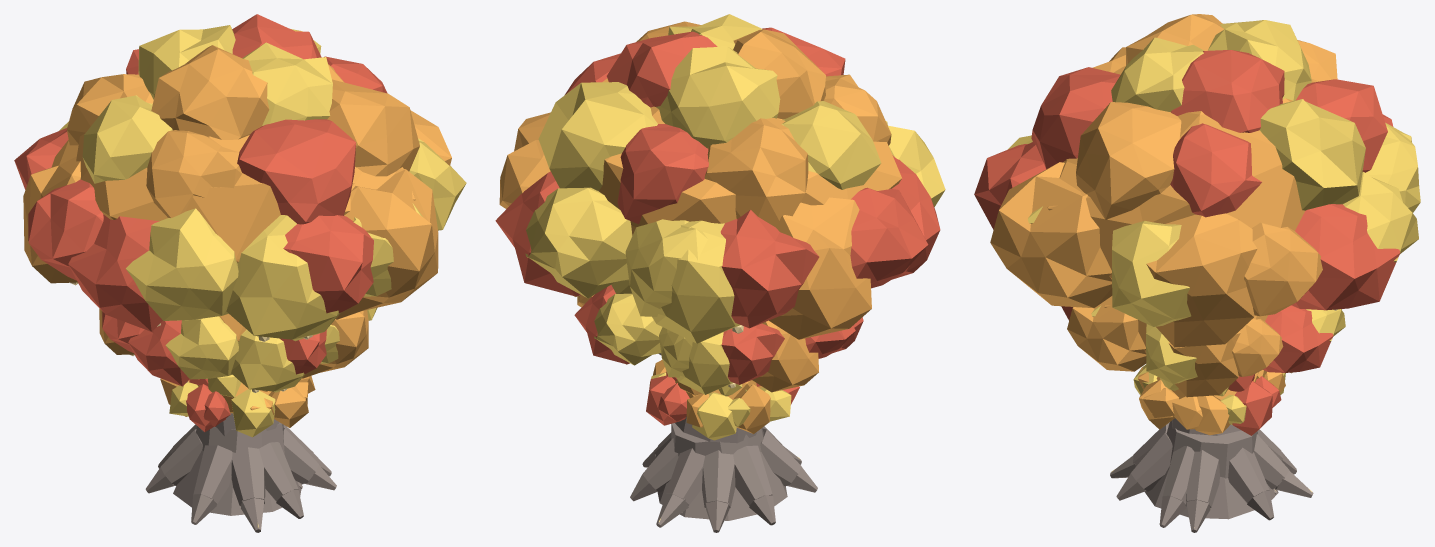
Rendered from SmokyMountains.fbx.
The picture shows the model from 3 angles, left to right: view 1: azimuth 30°, elevation 25°; view 2: azimuth 150°, elevation 25°; view 3: azimuth 270°, elevation 25°; orthographic projection.
Parts seen in each view (by area): view 1: AncientMaple4_Leaves, AncientMaple4_LeavesLight, AncientMaple4_LeavesDark, AncientMaple4_Bark, AncientMaple3_LeavesLight, AncientMaple3_LeavesDark, AncientMaple2_LeavesLight, AncientMaple3_Leaves, AncientMaple2_Leaves, AncientMaple2_LeavesDark; view 2: AncientMaple4_LeavesLight, AncientMaple4_Leaves, AncientMaple4_LeavesDark, AncientMaple4_Bark, AncientMaple3_LeavesLight, AncientMaple3_LeavesDark, AncientMaple2_LeavesLight, AncientMaple3_Leaves, AncientMaple2_Leaves, AncientMaple2_LeavesDark; view 3: AncientMaple4_Leaves, AncientMaple4_LeavesDark, AncientMaple4_LeavesLight, AncientMaple4_Bark, AncientMaple3_Leaves, AncientMaple2_Leaves, AncientMaple3_LeavesDark, AncientMaple3_LeavesLight, AncientMaple2_LeavesDark, AncientMaple2_LeavesLight.
Boxes of the visible parts, x1,y1,x2,y2 form: AncientMaple4_Leaves: (23, 45, 451, 319); AncientMaple4_LeavesLight: (59, 25, 466, 341); AncientMaple4_LeavesDark: (14, 14, 387, 331); AncientMaple4_Bark: (145, 413, 336, 532); AncientMaple3_LeavesLight: (165, 307, 377, 392); AncientMaple3_LeavesDark: (102, 311, 326, 386); AncientMaple2_LeavesLight: (169, 374, 275, 437); AncientMaple3_Leaves: (99, 308, 368, 378); AncientMaple2_Leaves: (160, 376, 315, 427); AncientMaple2_LeavesDark: (186, 379, 230, 431); AncientMaple4_LeavesLight: (525, 14, 945, 343); AncientMaple4_Leaves: (499, 21, 901, 339); AncientMaple4_LeavesDark: (495, 27, 940, 328); AncientMaple4_Bark: (630, 416, 817, 532); AncientMaple3_LeavesLight: (594, 279, 733, 394); AncientMaple3_LeavesDark: (574, 285, 863, 384); AncientMaple2_LeavesLight: (649, 372, 791, 440); AncientMaple3_Leaves: (577, 294, 818, 392); AncientMaple2_Leaves: (653, 360, 770, 433); AncientMaple2_LeavesDark: (646, 371, 799, 425); AncientMaple4_Leaves: (990, 14, 1337, 347); AncientMaple4_LeavesDark: (974, 50, 1400, 310); AncientMaple4_LeavesLight: (1008, 20, 1420, 326); AncientMaple4_Bark: (1110, 418, 1313, 532); AncientMaple3_Leaves: (1067, 296, 1283, 397); AncientMaple2_Leaves: (1138, 367, 1285, 435); AncientMaple3_LeavesDark: (1061, 305, 1333, 372); AncientMaple3_LeavesLight: (1091, 305, 1345, 383); AncientMaple2_LeavesDark: (1228, 374, 1281, 435); AncientMaple2_LeavesLight: (1133, 364, 1285, 424).
Size of the model in its own units: 318 by 350 by 306.
